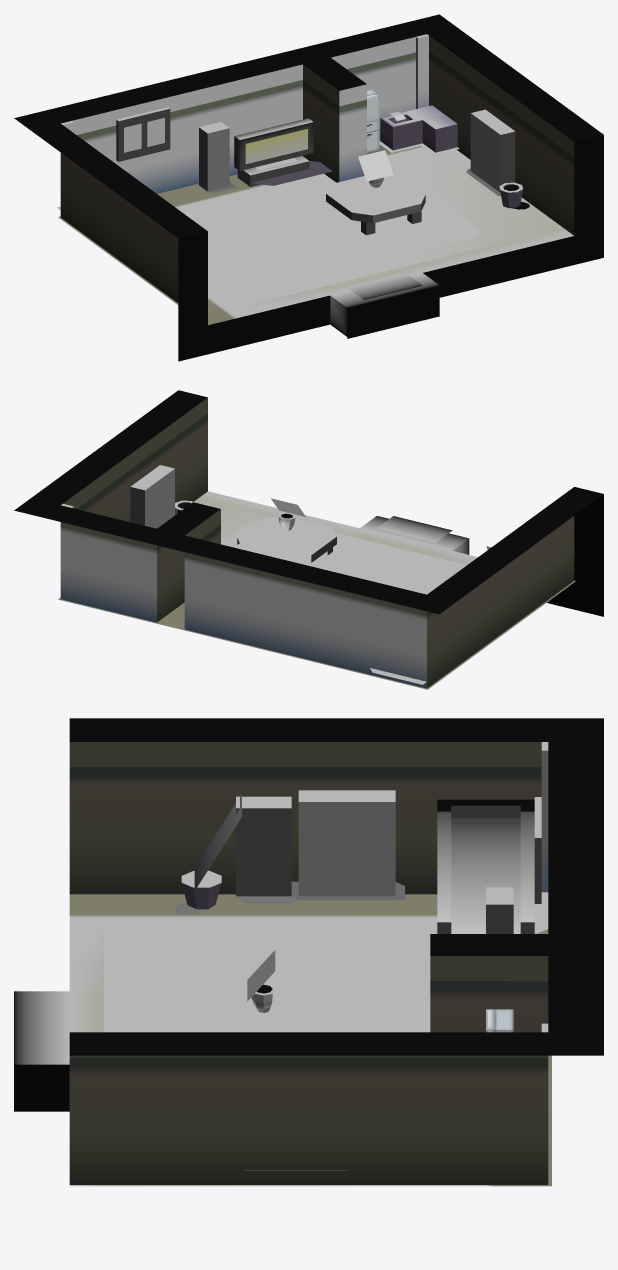
The model's file is nuvema_house_3_1f.obj.
3 views of the same model, one above another, from view 1: azimuth 30°, elevation 25°; view 2: azimuth 150°, elevation 25°; view 3: azimuth 270°, elevation 25° (orthographic). The views are drawn at different scales.
Bounding box in the file's own units: 299 × 83.85 × 221.
